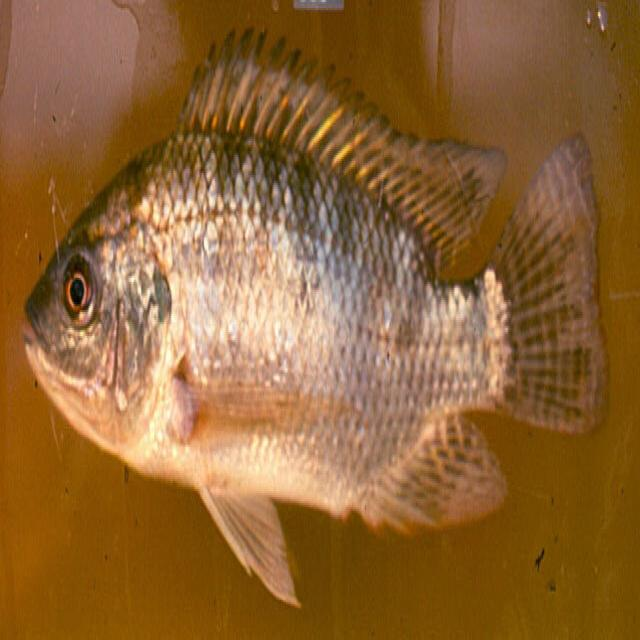ikan: (16, 23, 620, 622)
